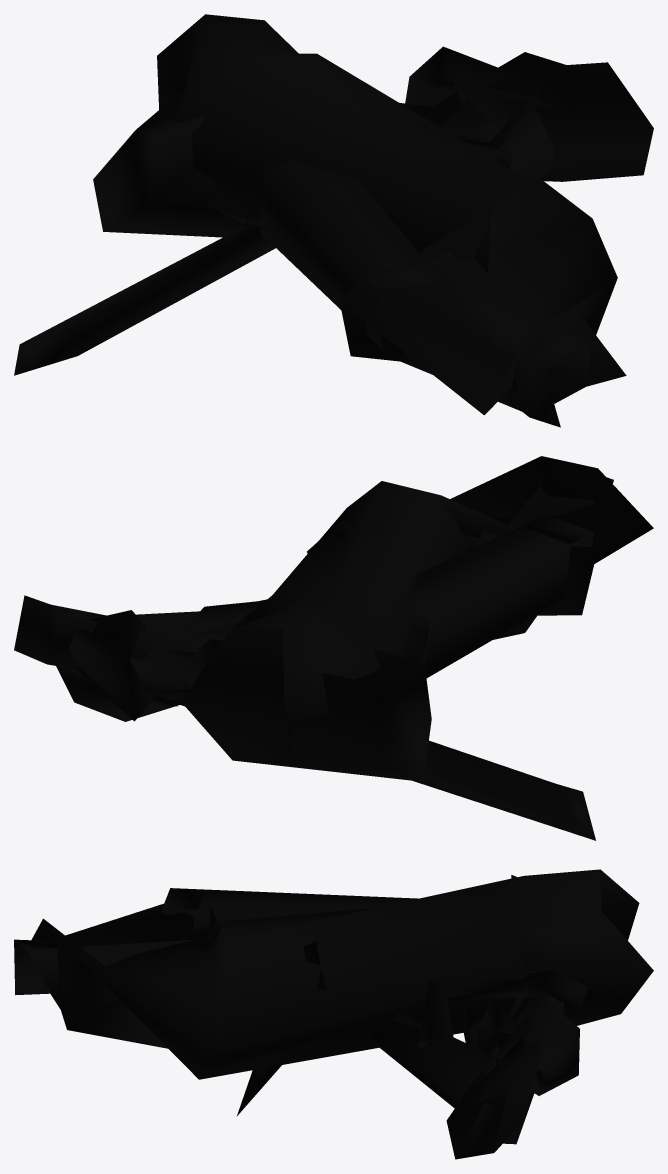
3 renders of one model, top to bottom at view 1: azimuth 30°, elevation 25°; view 2: azimuth 150°, elevation 25°; view 3: azimuth 270°, elevation 25°, orthographic. The views are drawn at different scales.
Visible parts, largest first — view 1: T1L3M002_21; view 2: T1L3M002_21; view 3: T1L3M002_21.
Part boxes in pixels (<box>): T1L3M002_21: <box>14,14,653,427</box>; T1L3M002_21: <box>14,456,653,840</box>; T1L3M002_21: <box>14,869,653,1159</box>.
Bounding box in the file's own units: 1.78 × 0.6286 × 1.88.
